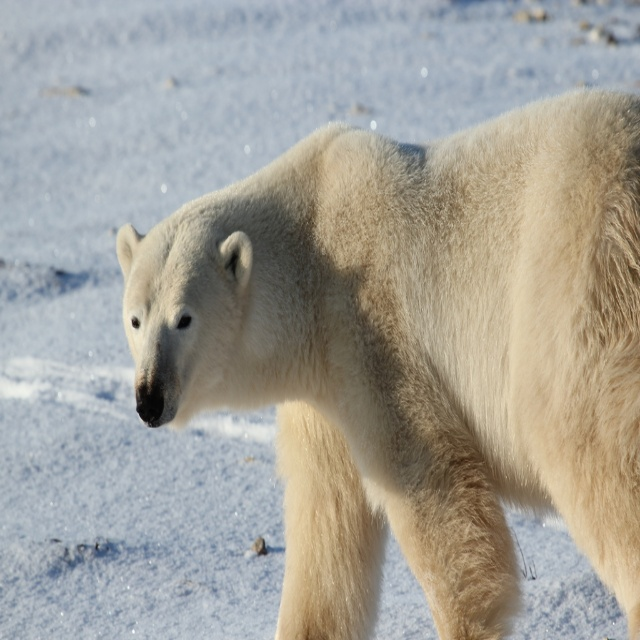Polar bear: (114, 82, 640, 639)
